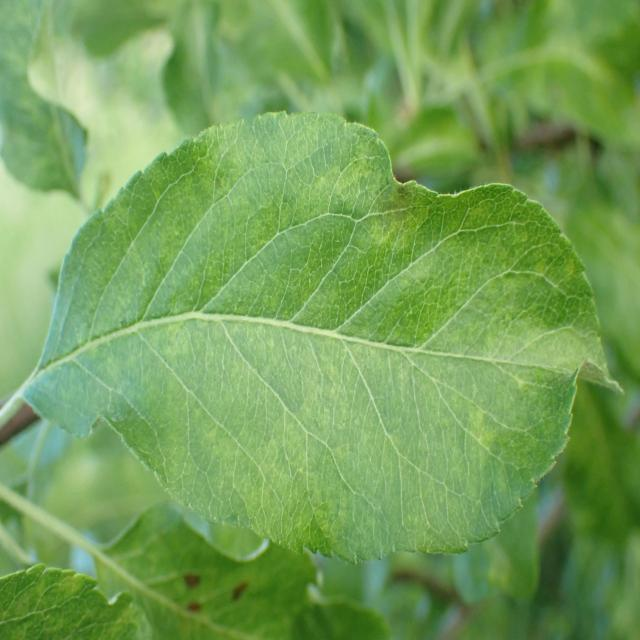scab: (59, 185, 590, 529)
